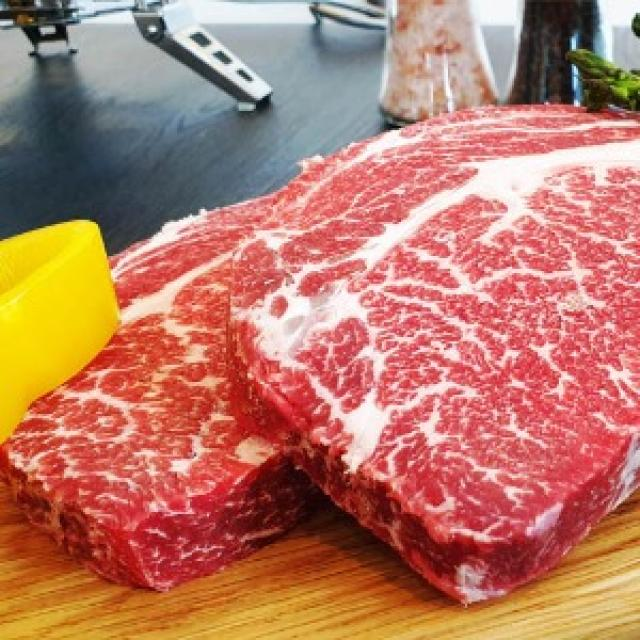pork: (29, 146, 640, 572)
